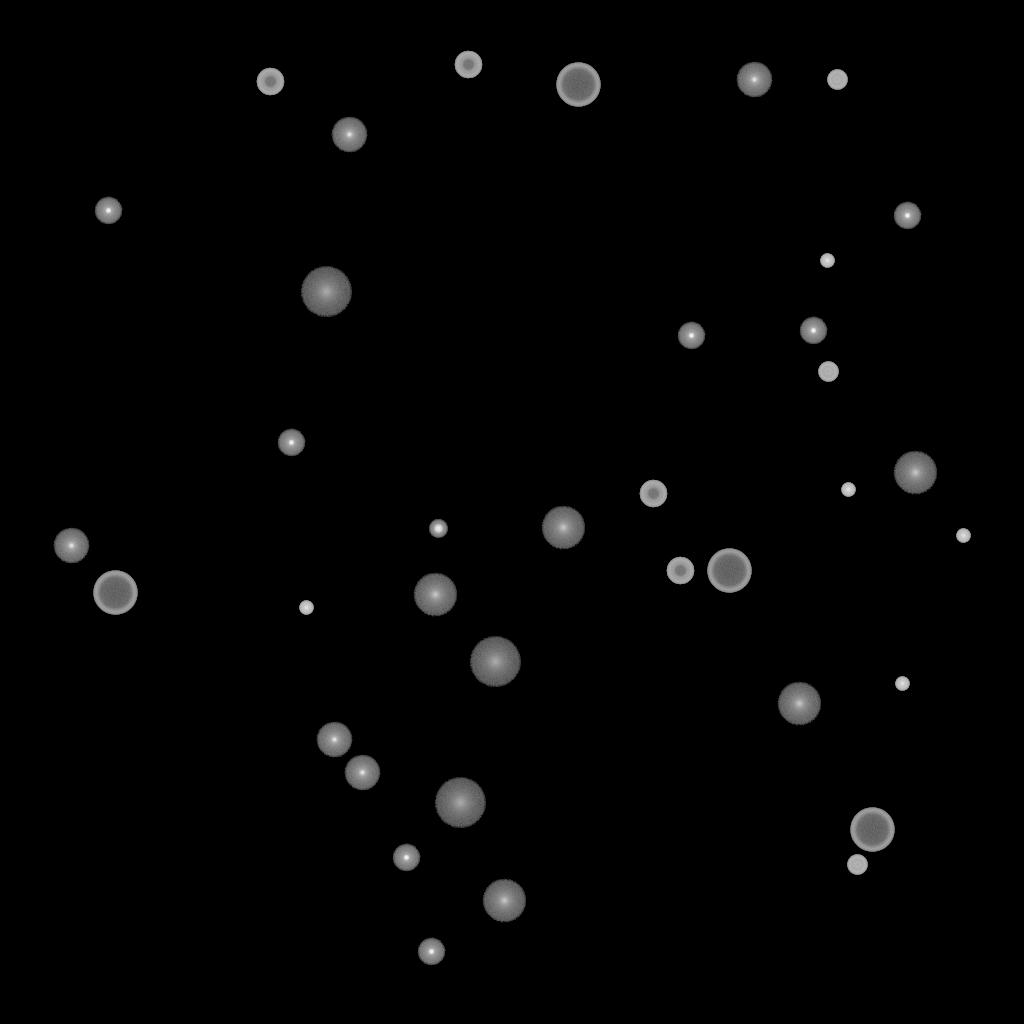depth:-10: (893, 202, 921, 230), (677, 322, 705, 350), (392, 844, 420, 872), (799, 317, 827, 345), (277, 429, 305, 457), (94, 197, 122, 225), (417, 938, 445, 966)
depth:-20: (429, 520, 447, 538)
depth:-30: (299, 601, 313, 615), (820, 254, 834, 268), (895, 677, 909, 691), (956, 529, 970, 543), (841, 483, 855, 497)
depth:-40: (827, 70, 847, 90), (847, 855, 867, 875), (818, 362, 838, 382)
depth:-50: (639, 480, 667, 508), (256, 68, 284, 96), (454, 51, 482, 79), (666, 557, 694, 585)
depth:-70: (556, 63, 600, 107), (707, 549, 751, 593), (93, 571, 137, 615), (850, 808, 894, 852)
depth:0: (344, 755, 380, 791), (53, 528, 89, 564), (316, 722, 352, 758), (331, 117, 367, 153), (736, 62, 772, 98)
depth:10: (413, 573, 457, 617), (893, 451, 937, 495), (777, 682, 821, 726), (482, 879, 526, 923), (541, 506, 585, 550)
depth:20: (434, 778, 486, 828), (469, 637, 521, 687), (300, 267, 352, 317)
